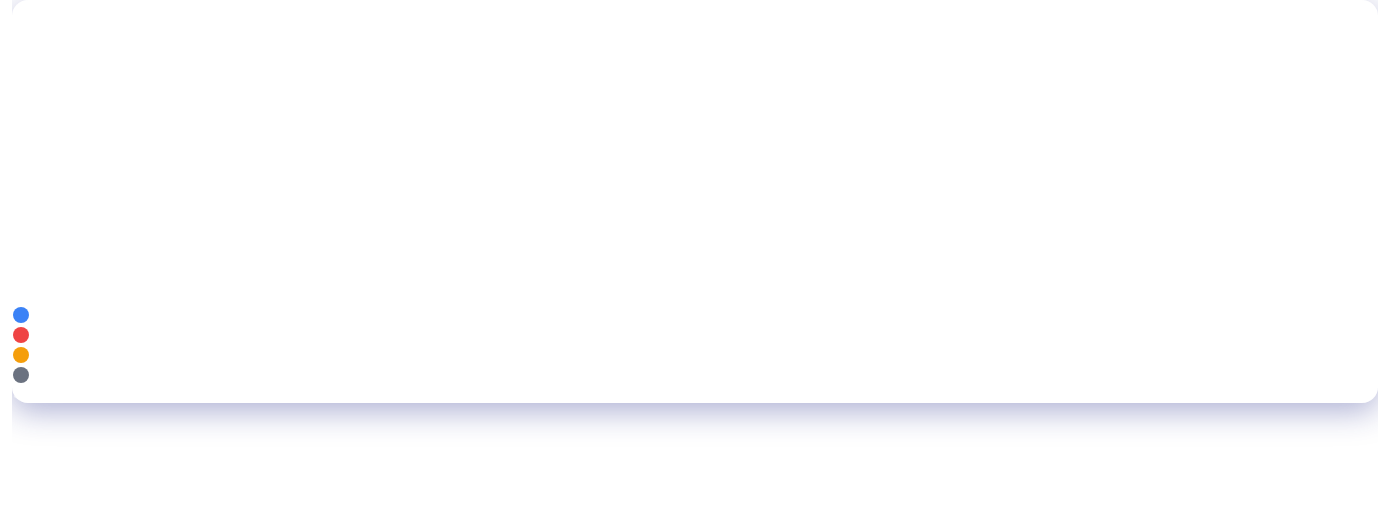
Test: SourceAttributionCard › Interactive Features › Source Descriptions › should display correct description for biomass source
The width and height of the screenshot is (1390, 524).
Click the element with test id "legend-item-biomass" at (97, 354), box [13,345,1377,365]
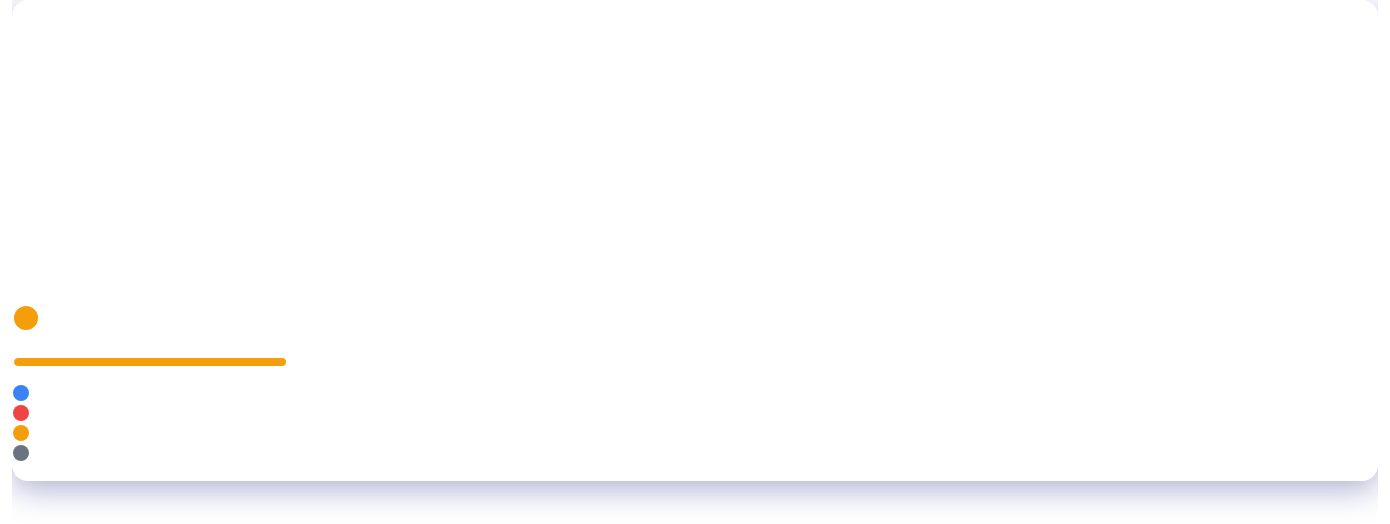
Check: the text "Smoke and particulates from burning" is shown, box [14,366,777,381]
